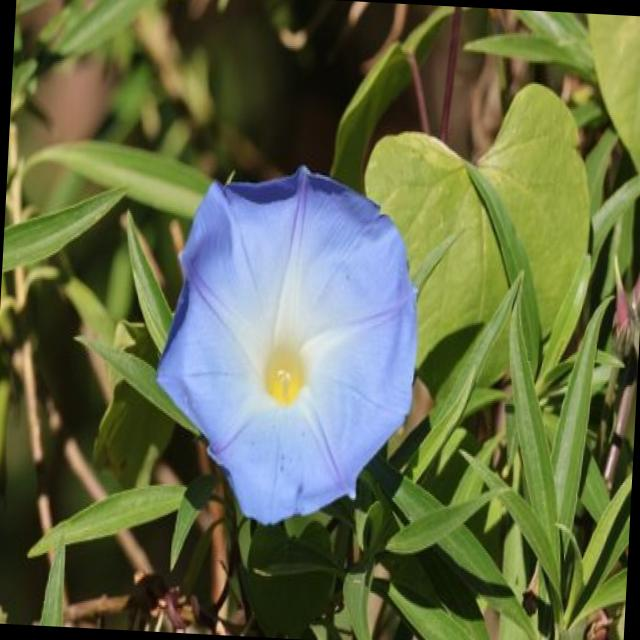ipomoea: (146, 155, 430, 538)
